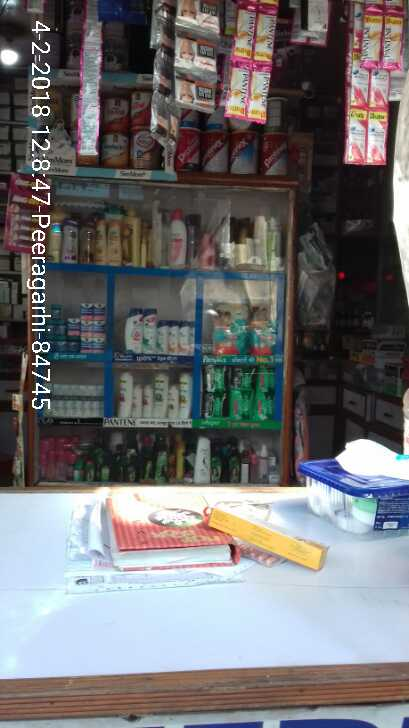vicks: (35, 301, 107, 357)
